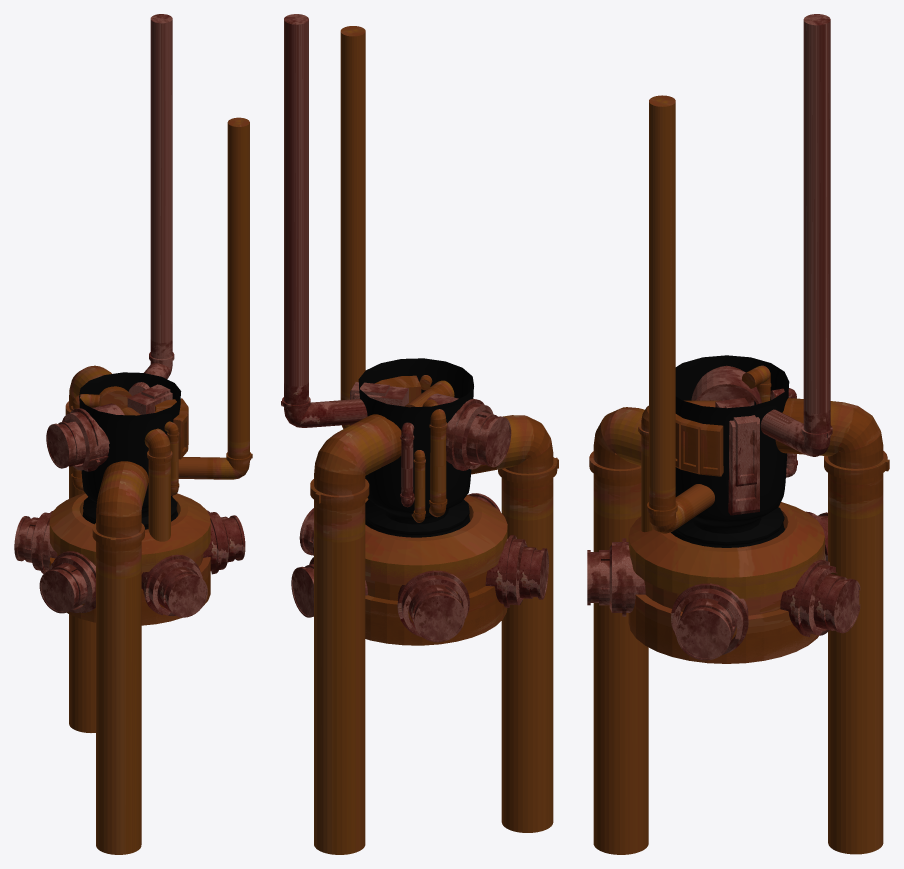
Rendered from tankTube.fbx.
3 renders of one model, left to right at view 1: azimuth 30°, elevation 25°; view 2: azimuth 150°, elevation 25°; view 3: azimuth 270°, elevation 25°, orthographic. The views are drawn at different scales.
Parts seen in each view (by area): view 1: Cylinder.184, Cylinder.192, Cylinder.183, Cylinder.178, BézierCurve.004, Cylinder.179, Cylinder.180, Cylinder.193, Cylinder.182, Cylinder.191, Cylinder.190, Cube.089 (+3 smaller); view 2: Cylinder.193, Cylinder.184, Cylinder.183, Cylinder.178, BézierCurve.004, Cylinder.192, Cylinder.179, Cylinder.180, Cylinder.190, Cylinder.191, Cylinder.187, Cylinder.188 (+4 smaller); view 3: Cylinder.193, Cylinder.184, Cylinder.178, Cylinder.183, Cylinder.192, BézierCurve.004, Cylinder.179, Cylinder.180, Cube.089, Cube.087, Cube.088, Cylinder.191 (+3 smaller).
Part boxes in pixels (box(x1,y1,x2,y2)): Cylinder.184: box(92, 461, 148, 854); Cylinder.192: box(178, 117, 252, 479); Cylinder.183: box(128, 14, 174, 395); Cylinder.178: box(49, 493, 210, 625); BézierCurve.004: box(79, 372, 181, 529); Cylinder.179: box(14, 515, 245, 617); Cylinder.180: box(31, 510, 228, 615); Cylinder.193: box(65, 365, 131, 732); Cylinder.182: box(121, 407, 172, 541); Cylinder.191: box(62, 403, 124, 471); Cylinder.190: box(46, 419, 85, 468); Cube.089: box(154, 398, 188, 459); Cylinder.193: box(310, 414, 401, 854); Cylinder.184: box(471, 415, 558, 832); Cylinder.183: box(281, 14, 367, 427); Cylinder.178: box(365, 495, 507, 645); BézierCurve.004: box(358, 358, 473, 537); Cylinder.192: box(340, 26, 365, 428); Cylinder.179: box(291, 493, 548, 642); Cylinder.180: box(309, 535, 527, 637); Cylinder.190: box(466, 411, 511, 467); Cylinder.191: box(427, 393, 493, 470); Cylinder.187: box(422, 399, 447, 517); Cylinder.188: box(400, 422, 414, 507); Cylinder.193: box(775, 397, 889, 854); Cylinder.184: box(589, 407, 648, 854); Cylinder.178: box(628, 502, 824, 663); Cylinder.183: box(760, 14, 832, 456); Cylinder.192: box(647, 95, 714, 533); BézierCurve.004: box(670, 355, 789, 547); Cylinder.179: box(587, 512, 860, 660); Cylinder.180: box(609, 511, 837, 655); Cube.089: box(675, 414, 723, 476); Cube.087: box(715, 398, 759, 515); Cube.088: box(725, 403, 756, 486); Cylinder.191: box(691, 365, 761, 404).
Bounding box in the file's own units: 1020 × 3574 × 1092.
3 materials, 2 textured.
